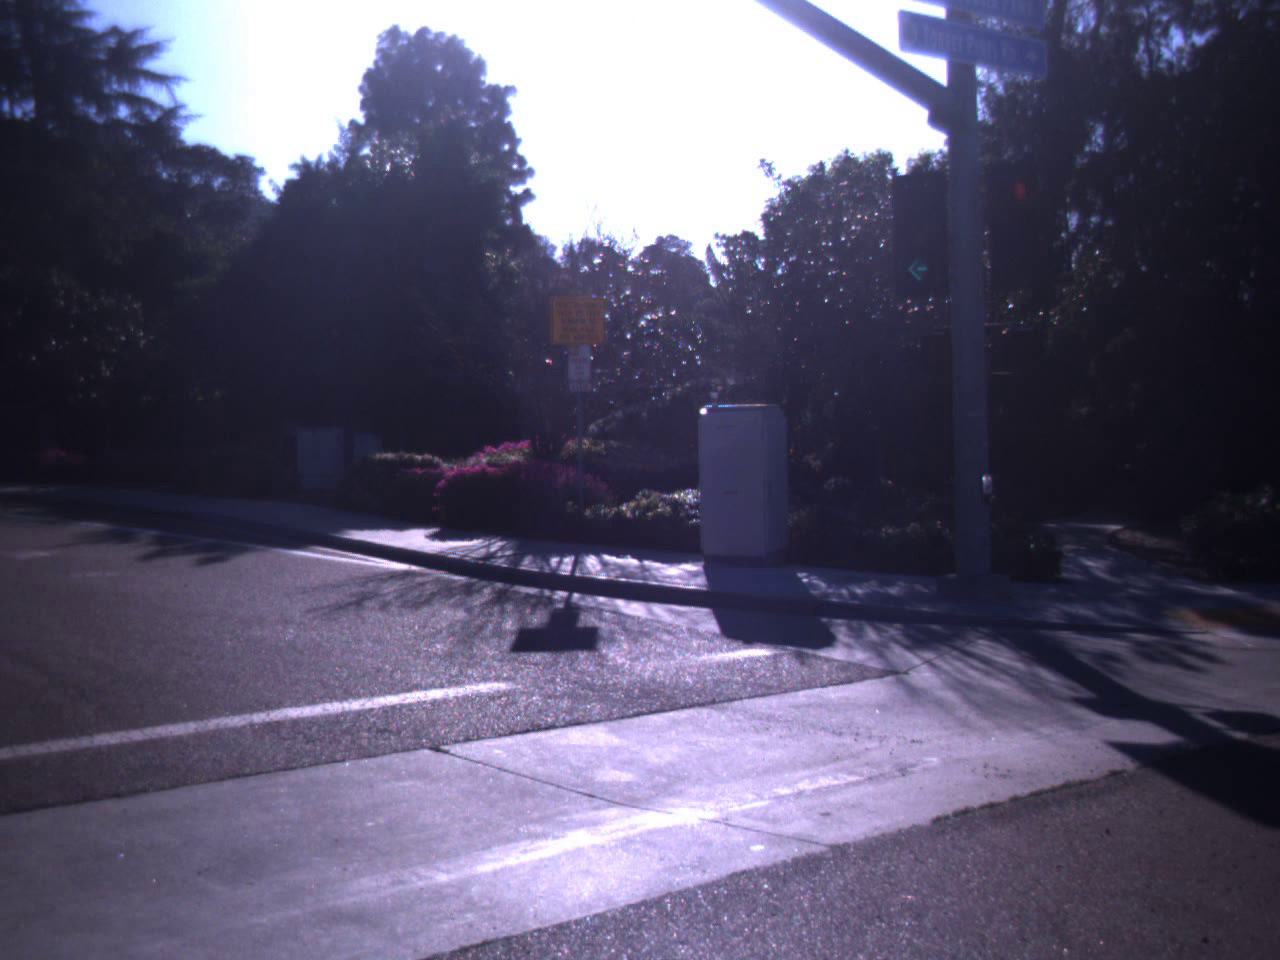go: (877, 158, 958, 298)
